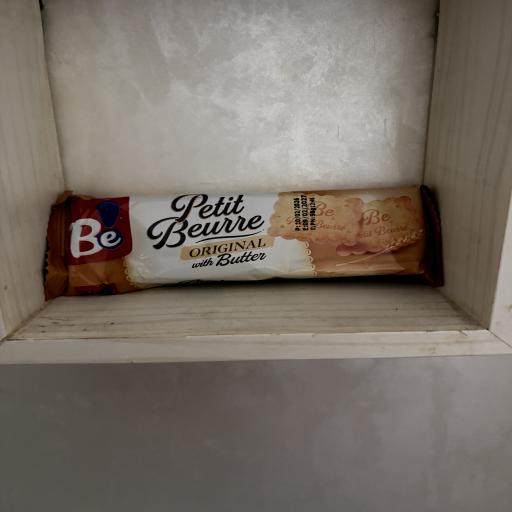petit-beurre: (22, 166, 468, 311)
